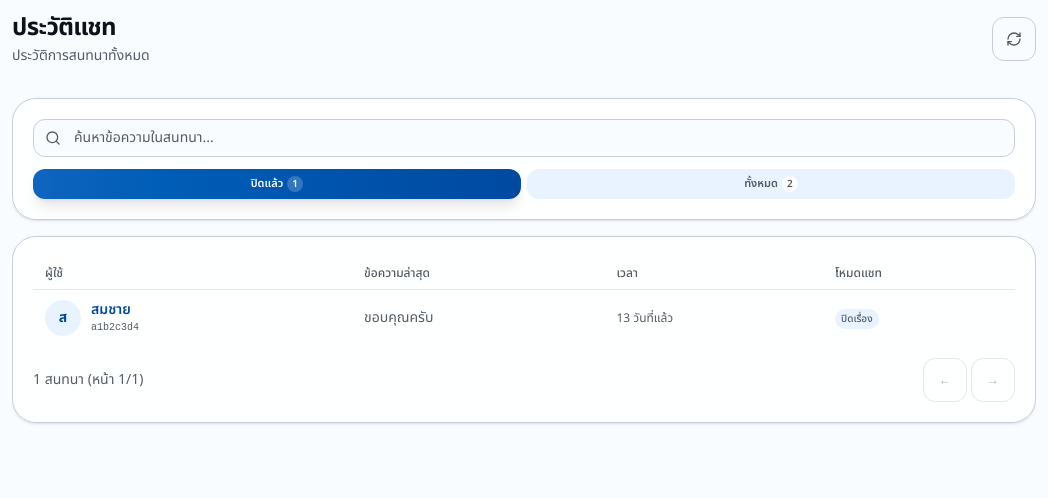
Test case: ChatHistoriesClient อ่านอย่างเดียว › ค่าเริ่มต้นเห็นเฉพาะห้องปิดแล้ว สลับไปทั้งหมดเห็นทุกห้อง
Expected: the text "สมชาย" is shown, [91,299,131,320]
Expected: the text "สมหญิง" is not shown
Step 1. Click the button "ทั้งหมด 2" → [771, 184], box [527,169,1015,199]
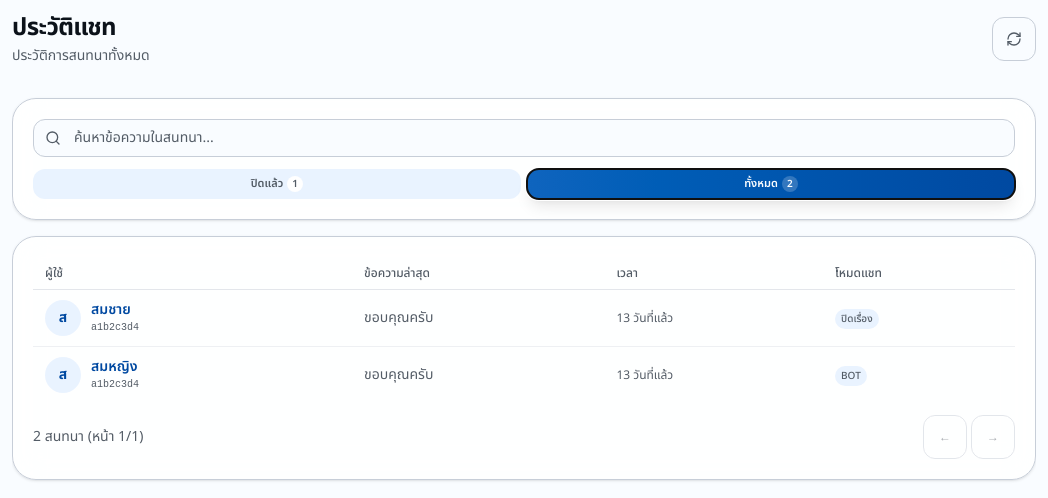
Now the text "สมหญิง" is shown, box [91,357,139,377]
